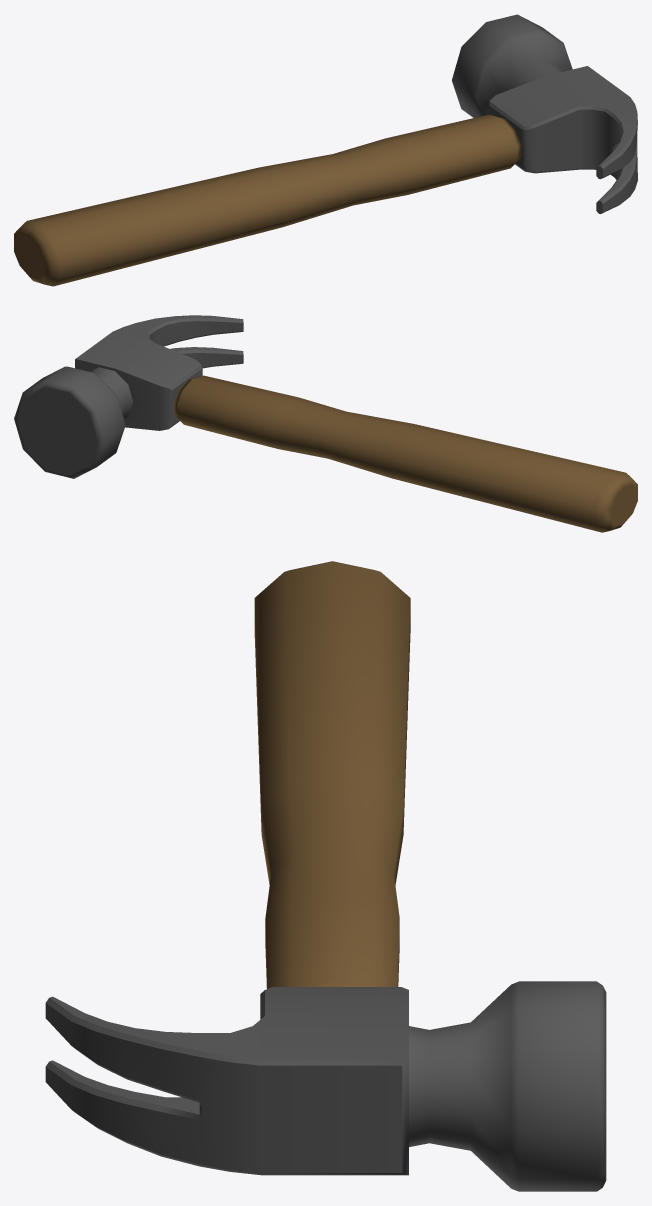
File: Entity_Hammer.FBX
3 views of the same model, one above another, from view 1: azimuth 30°, elevation 25°; view 2: azimuth 150°, elevation 25°; view 3: azimuth 270°, elevation 25° (orthographic). The views are drawn at different scales.
Parts seen in each view (by area): view 1: HammerHandle, HammerHead; view 2: HammerHandle, HammerHead; view 3: HammerHead, HammerHandle.
Part boxes in pixels (left/top/right/bottom): HammerHandle: left=14, top=114, right=521, bottom=286; HammerHead: left=452, top=14, right=637, bottom=213; HammerHandle: left=174, top=375, right=637, bottom=532; HammerHead: left=14, top=315, right=243, bottom=478; HammerHead: left=45, top=981, right=606, bottom=1191; HammerHandle: left=254, top=561, right=410, bottom=988.
Size of the model in its own units: 137 by 22.04 by 61.31.
